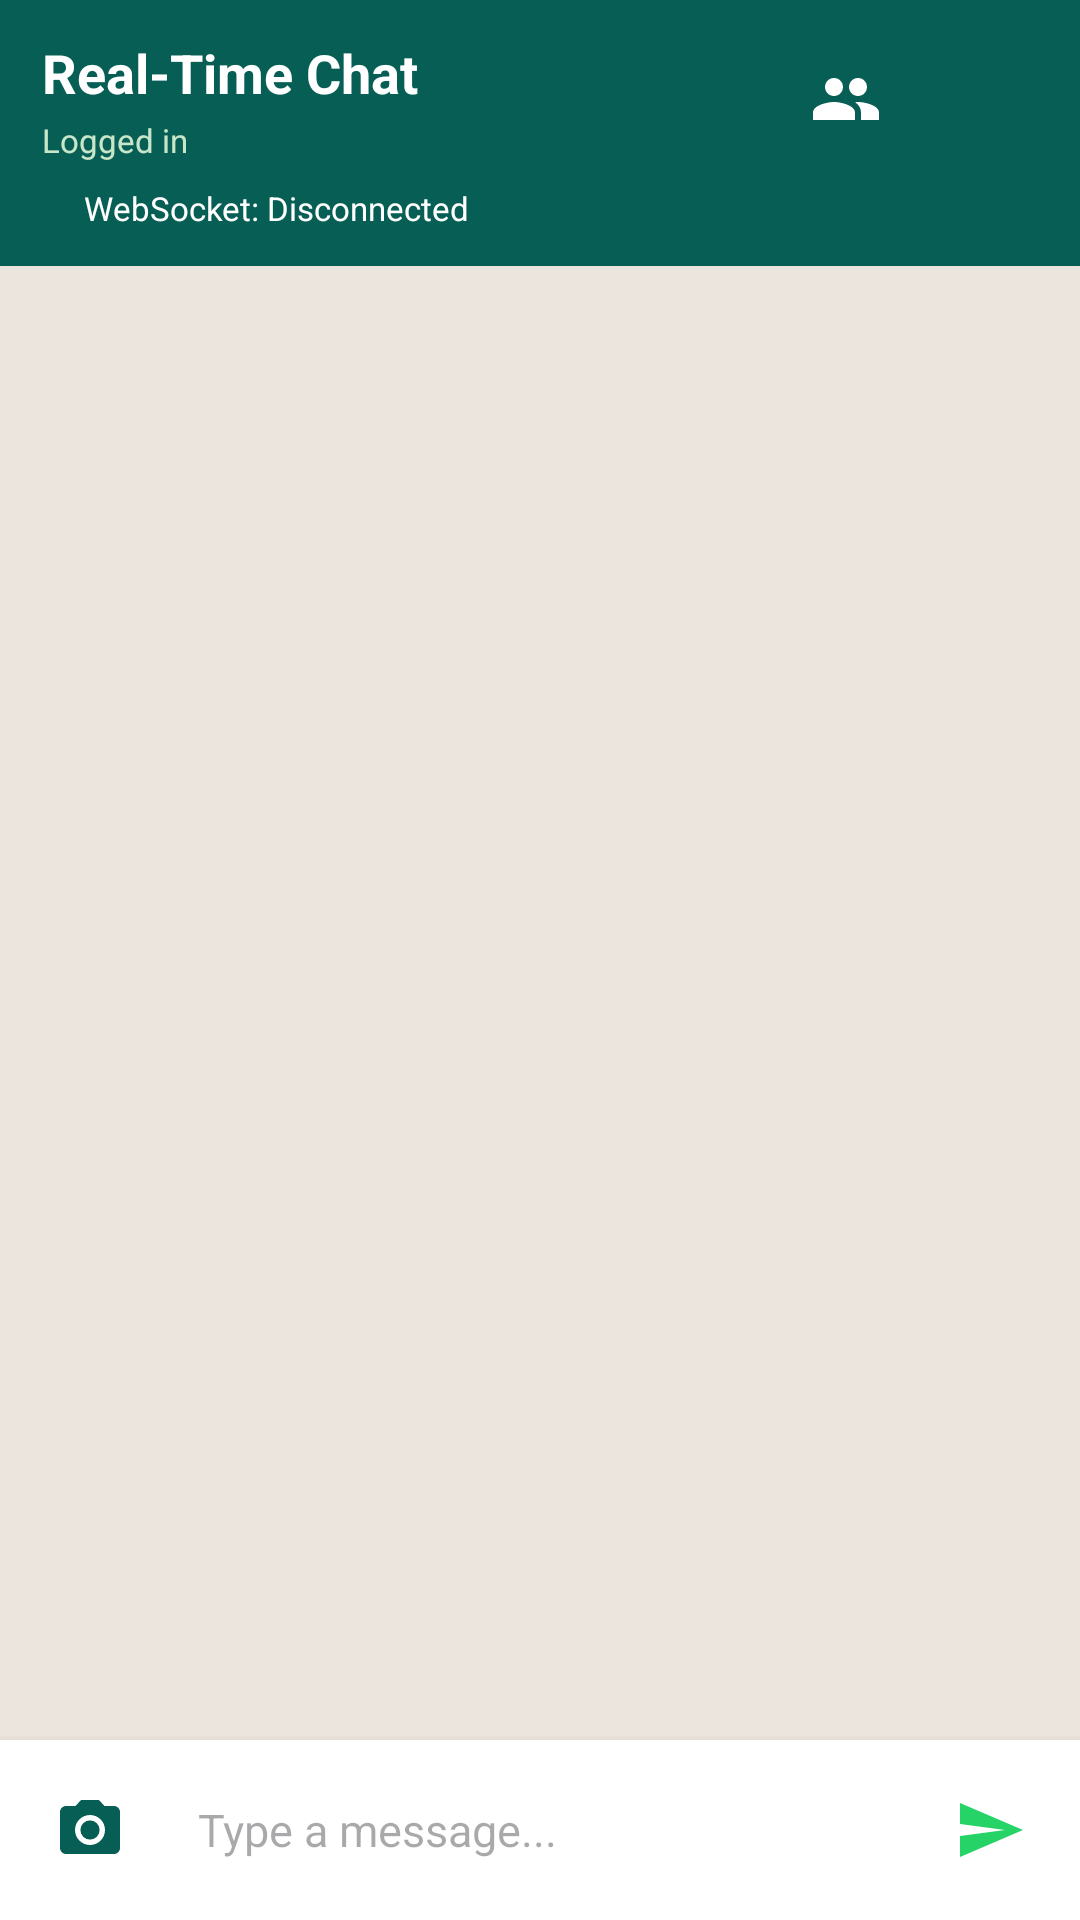

Screen size 1080 x 1920. Icon name, then its box in pixels as {"x1": x1, "y1": y1, "x2": x2, "y2": y2}:
Attach Photo: {"x1": 60, "y1": 1800, "x2": 120, "y2": 1854}
Select Contact: {"x1": 813, "y1": 78, "x2": 879, "y2": 120}
Send Message: {"x1": 960, "y1": 1803, "x2": 1023, "y2": 1857}
